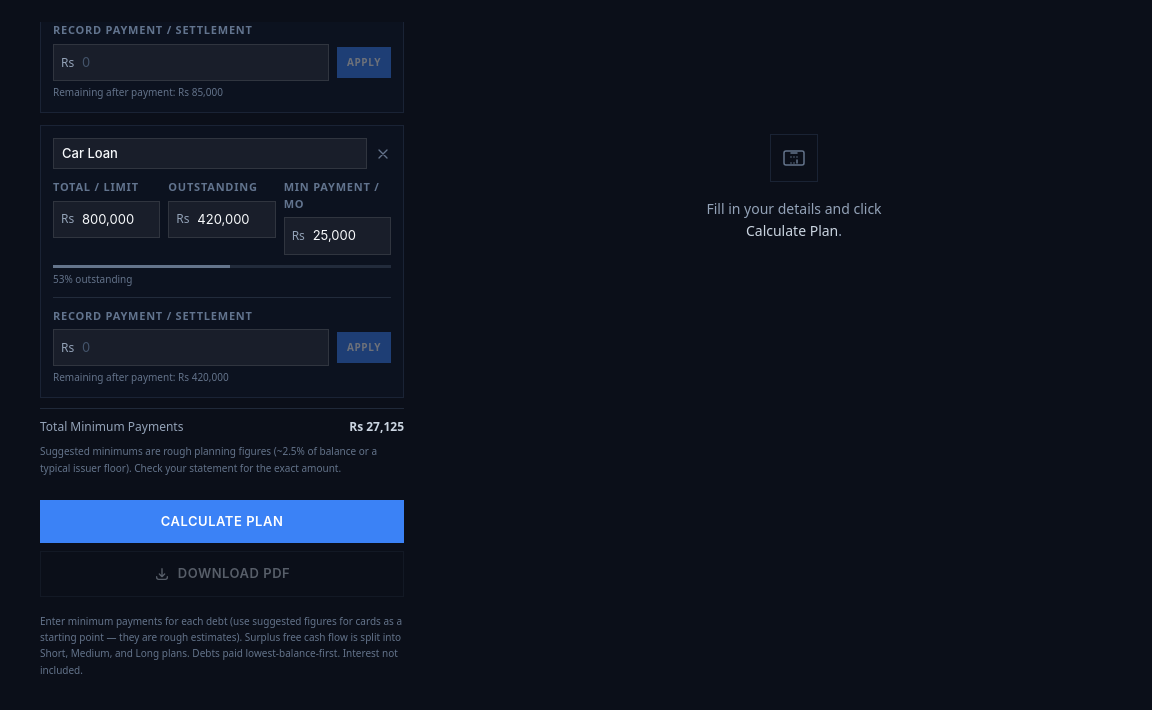
Test: DebtOptimizerClient — calculation with default values › shows per-debt put-toward amounts after calculation
(page scrolled)
What coordinates should you click on to do the following:
click the button "Calculate Plan"
I would click on:
 (222, 522)
Its box is [40,500,404,544].
(page scrolled)
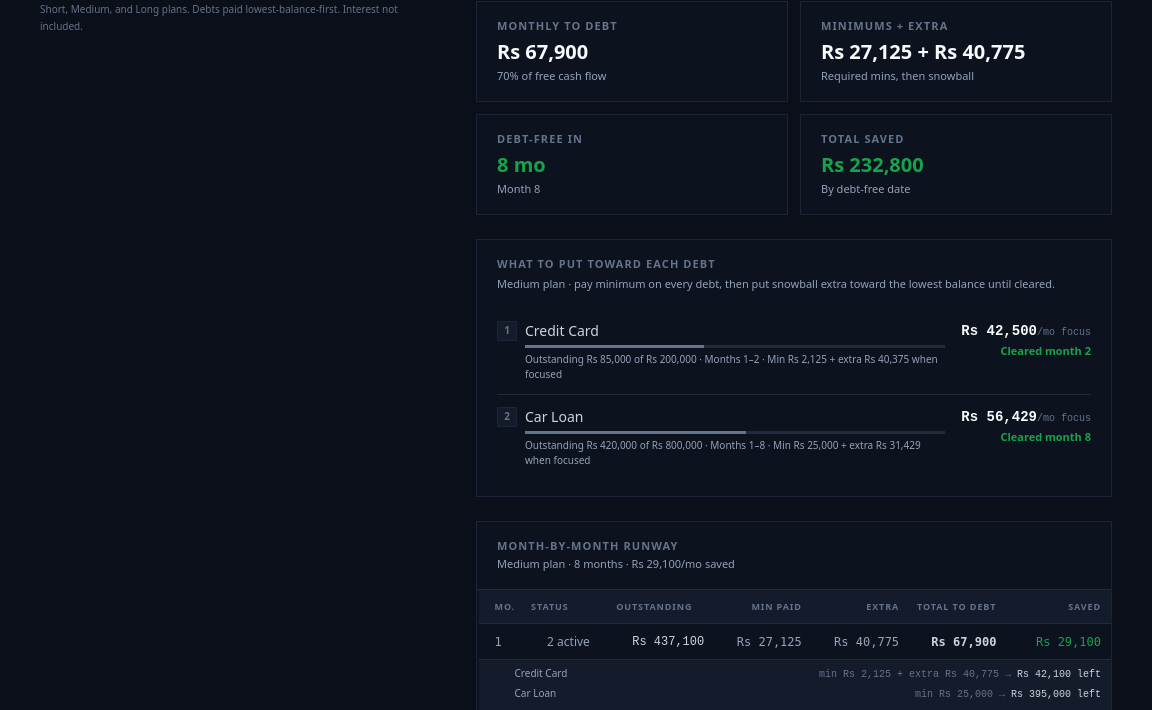
Expected: the text "What to Put Toward Each Debt" is shown, [497,256,716,271]
Expected: the text "Cleared month 2" is shown, [1000,343,1091,358]
